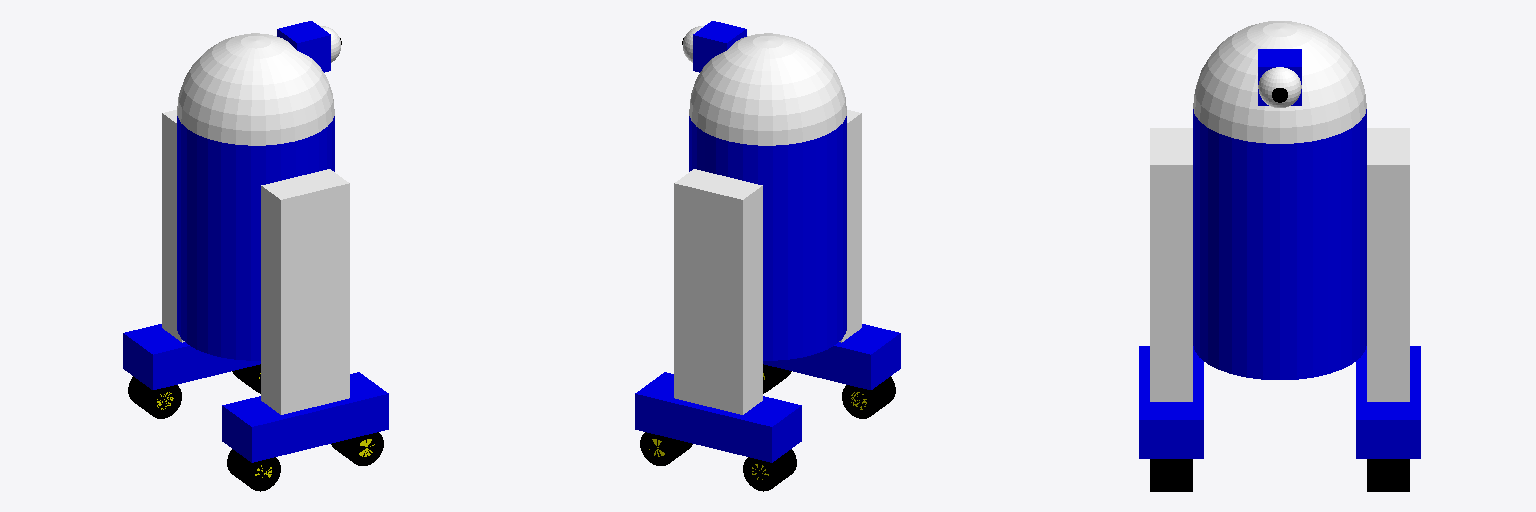
URDF robot description (chitti_vtwo):
<?xml version="1.0" ?>
<!-- =================================================================================== -->
<!-- |    This document was autogenerated by xacro from robot_vtwo.xacro               | -->
<!-- |    EDITING THIS FILE BY HAND IS NOT RECOMMENDED                                 | -->
<!-- =================================================================================== -->
<robot name="chitti_vtwo">
  <material name="blue">
    <color rgba="0 0 1 1"/>
  </material>
  <material name="white">
    <color rgba="1 1 1 1"/>
  </material>
  <material name="black">
    <color rgba="0 0 0 1"/>
  </material>
  <material name="black_2">
    <color rgba="0 0 0 0.9"/>
  </material>
  <material name="yellow">
    <color rgba="1 1 0 1"/>
  </material>
  <gazebo>
    <plugin filename="gz-sim-diff-drive-system" name="gz::sim::systems::DiffDrive">
      <left_joint>wheel1_joint</left_joint>
      <left_joint>wheel2_joint</left_joint>
      <right_joint>wheel3_joint</right_joint>
      <right_joint>wheel4_joint</right_joint>
      <wheel_separation>0.5</wheel_separation>
      <wheel_radius>0.05</wheel_radius>
      <topic>cmd_vel</topic>
    </plugin>
  </gazebo>
  <link name="base_link">
    <inertial>
      <mass value="5.0"/>
      <origin rpy="0 0 0" xyz="0 0 0"/>
      <inertia ixx="0.005" ixy="0" ixz="0" iyy="0.005" iyz="0" izz="0.005"/>
    </inertial>
    <visual>
      <geometry>
        <cylinder length="0.6" radius="0.2"/>
      </geometry>
      <material name="blue"/>
    </visual>
    <collision>
      <geometry>
        <cylinder length="0.6" radius="0.2"/>
      </geometry>
    </collision>
  </link>
  <link name="leg_l">
    <inertial>
      <mass value="0.5"/>
      <origin rpy="0 0 0" xyz="0 0 0"/>
      <inertia ixx="0.0005" ixy="0" ixz="0" iyy="0.0005" iyz="0" izz="0.0005"/>
    </inertial>
    <visual>
      <geometry>
        <box size="0.6 0.1 0.2"/>
      </geometry>
      <material name="white"/>
    </visual>
    <collision>
      <geometry>
        <box size="0.6 0.1 0.2"/>
      </geometry>
    </collision>
  </link>
  <joint name="leg_joint_l" type="revolute">
    <parent link="base_link"/>
    <child link="leg_l"/>
    <origin rpy="0 1.570796326795 0" xyz="0 -0.25 -0.1"/>
    <axis xyz="0 1 0"/>
    <limit effort="100.0" lower="-0.5" upper="0.5" velocity="3.14"/>
  </joint>
  <link name="pad_l">
    <inertial>
      <mass value="0.3"/>
      <origin rpy="0 0 0" xyz="0 0 0"/>
      <inertia ixx="0.0003" ixy="0" ixz="0" iyy="0.0003" iyz="0" izz="0.0003"/>
    </inertial>
    <visual>
      <geometry>
        <box size="0.4 0.15 0.1"/>
      </geometry>
      <material name="blue"/>
    </visual>
    <collision>
      <geometry>
        <box size="0.4 0.15 0.1"/>
      </geometry>
    </collision>
  </link>
  <joint name="pad_joint_l" type="fixed">
    <parent link="leg_l"/>
    <child link="pad_l"/>
    <origin rpy="0 -1.570796326795 0" xyz="0.35 0 0"/>
  </joint>
  <link name="leg_r">
    <inertial>
      <mass value="0.5"/>
      <origin rpy="0 0 0" xyz="0 0 0"/>
      <inertia ixx="0.0005" ixy="0" ixz="0" iyy="0.0005" iyz="0" izz="0.0005"/>
    </inertial>
    <visual>
      <geometry>
        <box size="0.6 0.1 0.2"/>
      </geometry>
      <material name="white"/>
    </visual>
    <collision>
      <geometry>
        <box size="0.6 0.1 0.2"/>
      </geometry>
    </collision>
  </link>
  <joint name="leg_joint_r" type="revolute">
    <parent link="base_link"/>
    <child link="leg_r"/>
    <origin rpy="0 1.570796326795 0" xyz="0 0.25 -0.1"/>
    <axis xyz="0 1 0"/>
    <limit effort="100.0" lower="-0.5" upper="0.5" velocity="3.14"/>
  </joint>
  <link name="pad_r">
    <inertial>
      <mass value="0.3"/>
      <origin rpy="0 0 0" xyz="0 0 0"/>
      <inertia ixx="0.0003" ixy="0" ixz="0" iyy="0.0003" iyz="0" izz="0.0003"/>
    </inertial>
    <visual>
      <geometry>
        <box size="0.4 0.15 0.1"/>
      </geometry>
      <material name="blue"/>
    </visual>
    <collision>
      <geometry>
        <box size="0.4 0.15 0.1"/>
      </geometry>
    </collision>
  </link>
  <joint name="pad_joint_r" type="fixed">
    <parent link="leg_r"/>
    <child link="pad_r"/>
    <origin rpy="0 -1.570796326795 0" xyz="0.35 0 0"/>
  </joint>
  <link name="wheel1">
    <inertial>
      <mass value="0.2"/>
      <origin rpy="0 0 0" xyz="0 0 0"/>
      <inertia ixx="0.0002" ixy="0" ixz="0" iyy="0.0002" iyz="0" izz="0.0002"/>
    </inertial>
    <visual>
      <geometry>
        <cylinder length="0.1" radius="0.05"/>
      </geometry>
      <material name="black_2"/>
    </visual>
    <collision>
      <geometry>
        <cylinder length="0.1" radius="0.05"/>
      </geometry>
    </collision>
  </link>
  <joint name="wheel1_joint" type="continuous">
    <parent link="pad_l"/>
    <child link="wheel1"/>
    <origin rpy="1.570796326795 0 0" xyz="0.15 0 -0.1"/>
    <axis xyz="0 0 1"/>
  </joint>
  <link name="iwheel1">
    <inertial>
      <mass value="0.05"/>
      <origin rpy="0 0 0" xyz="0 0 0"/>
      <inertia ixx="5e-05" ixy="0" ixz="0" iyy="5e-05" iyz="0" izz="5e-05"/>
    </inertial>
    <visual>
      <geometry>
        <cylinder length="0.1" radius="0.025"/>
      </geometry>
      <material name="yellow"/>
    </visual>
    <collision>
      <geometry>
        <cylinder length="0.1" radius="0.025"/>
      </geometry>
    </collision>
  </link>
  <joint name="iwheel1_joint" type="fixed">
    <parent link="wheel1"/>
    <child link="iwheel1"/>
    <origin rpy="0 0 0" xyz="0 0 0"/>
  </joint>
  <link name="wheel2">
    <inertial>
      <mass value="0.2"/>
      <origin rpy="0 0 0" xyz="0 0 0"/>
      <inertia ixx="0.0002" ixy="0" ixz="0" iyy="0.0002" iyz="0" izz="0.0002"/>
    </inertial>
    <visual>
      <geometry>
        <cylinder length="0.1" radius="0.05"/>
      </geometry>
      <material name="black_2"/>
    </visual>
    <collision>
      <geometry>
        <cylinder length="0.1" radius="0.05"/>
      </geometry>
    </collision>
  </link>
  <joint name="wheel2_joint" type="continuous">
    <parent link="pad_l"/>
    <child link="wheel2"/>
    <origin rpy="1.570796326795 0 0" xyz="-0.15 0 -0.1"/>
    <axis xyz="0 0 1"/>
  </joint>
  <link name="iwheel2">
    <inertial>
      <mass value="0.05"/>
      <origin rpy="0 0 0" xyz="0 0 0"/>
      <inertia ixx="5e-05" ixy="0" ixz="0" iyy="5e-05" iyz="0" izz="5e-05"/>
    </inertial>
    <visual>
      <geometry>
        <cylinder length="0.1" radius="0.025"/>
      </geometry>
      <material name="yellow"/>
    </visual>
    <collision>
      <geometry>
        <cylinder length="0.1" radius="0.025"/>
      </geometry>
    </collision>
  </link>
  <joint name="iwheel2_joint" type="fixed">
    <parent link="wheel2"/>
    <child link="iwheel2"/>
    <origin rpy="0 0 0" xyz="0 0 0"/>
  </joint>
  <link name="wheel3">
    <inertial>
      <mass value="0.2"/>
      <origin rpy="0 0 0" xyz="0 0 0"/>
      <inertia ixx="0.0002" ixy="0" ixz="0" iyy="0.0002" iyz="0" izz="0.0002"/>
    </inertial>
    <visual>
      <geometry>
        <cylinder length="0.1" radius="0.05"/>
      </geometry>
      <material name="black_2"/>
    </visual>
    <collision>
      <geometry>
        <cylinder length="0.1" radius="0.05"/>
      </geometry>
    </collision>
  </link>
  <joint name="wheel3_joint" type="continuous">
    <parent link="pad_r"/>
    <child link="wheel3"/>
    <origin rpy="1.570796326795 0 0" xyz="-0.15 0 -0.1"/>
    <axis xyz="0 0 1"/>
  </joint>
  <link name="iwheel3">
    <inertial>
      <mass value="0.05"/>
      <origin rpy="0 0 0" xyz="0 0 0"/>
      <inertia ixx="5e-05" ixy="0" ixz="0" iyy="5e-05" iyz="0" izz="5e-05"/>
    </inertial>
    <visual>
      <geometry>
        <cylinder length="0.1" radius="0.025"/>
      </geometry>
      <material name="yellow"/>
    </visual>
    <collision>
      <geometry>
        <cylinder length="0.1" radius="0.025"/>
      </geometry>
    </collision>
  </link>
  <joint name="iwheel3_joint" type="fixed">
    <parent link="wheel3"/>
    <child link="iwheel3"/>
    <origin rpy="0 0 0" xyz="0 0 0"/>
  </joint>
  <link name="wheel4">
    <inertial>
      <mass value="0.2"/>
      <origin rpy="0 0 0" xyz="0 0 0"/>
      <inertia ixx="0.0002" ixy="0" ixz="0" iyy="0.0002" iyz="0" izz="0.0002"/>
    </inertial>
    <visual>
      <geometry>
        <cylinder length="0.1" radius="0.05"/>
      </geometry>
      <material name="black_2"/>
    </visual>
    <collision>
      <geometry>
        <cylinder length="0.1" radius="0.05"/>
      </geometry>
    </collision>
  </link>
  <joint name="wheel4_joint" type="continuous">
    <parent link="pad_r"/>
    <child link="wheel4"/>
    <origin rpy="1.570796326795 0 0" xyz="0.15 0 -0.1"/>
    <axis xyz="0 0 1"/>
  </joint>
  <link name="iwheel4">
    <inertial>
      <mass value="0.05"/>
      <origin rpy="0 0 0" xyz="0 0 0"/>
      <inertia ixx="5e-05" ixy="0" ixz="0" iyy="5e-05" iyz="0" izz="5e-05"/>
    </inertial>
    <visual>
      <geometry>
        <cylinder length="0.1" radius="0.025"/>
      </geometry>
      <material name="yellow"/>
    </visual>
    <collision>
      <geometry>
        <cylinder length="0.1" radius="0.025"/>
      </geometry>
    </collision>
  </link>
  <joint name="iwheel4_joint" type="fixed">
    <parent link="wheel4"/>
    <child link="iwheel4"/>
    <origin rpy="0 0 0" xyz="0 0 0"/>
  </joint>
  <link name="head">
    <inertial>
      <mass value="1.0"/>
      <origin rpy="0 0 0" xyz="0 0 0"/>
      <inertia ixx="0.001" ixy="0" ixz="0" iyy="0.001" iyz="0" izz="0.001"/>
    </inertial>
    <visual>
      <geometry>
        <sphere radius="0.2"/>
      </geometry>
      <material name="white"/>
    </visual>
    <collision>
      <geometry>
        <sphere radius="0.2"/>
      </geometry>
    </collision>
  </link>
  <joint name="head_joint1" type="continuous">
    <parent link="base_link"/>
    <child link="head"/>
    <origin rpy="0 0 0" xyz="0 0 0.3"/>
    <axis xyz="0 0 1"/>
  </joint>
  <link name="eye_socket">
    <inertial>
      <mass value="0.1"/>
      <origin rpy="0 0 0" xyz="0 0 0"/>
      <inertia ixx="0.0001" ixy="0" ixz="0" iyy="0.0001" iyz="0" izz="0.0001"/>
    </inertial>
    <visual>
      <geometry>
        <box size="0.1 0.1 0.1"/>
      </geometry>
      <material name="blue"/>
    </visual>
    <collision>
      <geometry>
        <box size="0.1 0.1 0.1"/>
      </geometry>
    </collision>
  </link>
  <joint name="eye_joint" type="fixed">
    <parent link="head"/>
    <child link="eye_socket"/>
    <origin rpy="0 0 0" xyz="0.1414 0 0.1414"/>
  </joint>
  <link name="eyeball">
    <inertial>
      <mass value="0.05"/>
      <origin rpy="0 0 0" xyz="0 0 0"/>
      <inertia ixx="5e-05" ixy="0" ixz="0" iyy="5e-05" iyz="0" izz="5e-05"/>
    </inertial>
    <visual>
      <geometry>
        <sphere radius="0.05"/>
      </geometry>
      <material name="white"/>
    </visual>
    <collision>
      <geometry>
        <sphere radius="0.05"/>
      </geometry>
    </collision>
  </link>
  <joint name="ieye_joint" type="revolute">
    <parent link="eye_socket"/>
    <child link="eyeball"/>
    <origin rpy="0 0 0" xyz="0.05 0 0"/>
    <axis xyz="0 1 0"/>
    <limit effort="100.0" lower="-1.570796326795" upper="1.570796326795" velocity="3.14"/>
  </joint>
  <link name="pupil">
    <inertial>
      <mass value="0.01"/>
      <origin rpy="0 0 0" xyz="0 0 0"/>
      <inertia ixx="1e-05" ixy="0" ixz="0" iyy="1e-05" iyz="0" izz="1e-05"/>
    </inertial>
    <visual>
      <geometry>
        <sphere radius="0.025"/>
      </geometry>
      <material name="black"/>
    </visual>
    <collision>
      <geometry>
        <sphere radius="0.025"/>
      </geometry>
    </collision>
  </link>
  <joint name="pupil_joint" type="fixed">
    <parent link="eyeball"/>
    <child link="pupil"/>
    <origin rpy="0 0 0" xyz="0.03 0 0"/>
  </joint>
</robot>

--- Facts derived from the render (not from the file) ---
3 views of the same robot in one strip: view 1: azimuth 30°, elevation 25°; view 2: azimuth 150°, elevation 25°; view 3: azimuth 270°, elevation 25° (orthographic).
Robot: chitti_vtwo — 17 links, 16 joints (3 revolute, 5 continuous, 8 fixed); root link base_link; default pose: all joints at 0.
Visible links, largest first — view 1: base_link, leg_l, head, pad_l, pad_r, leg_r, eye_socket, wheel2, wheel3, wheel1; view 2: base_link, leg_r, head, pad_r, pad_l, leg_l, eye_socket, wheel3, wheel2, wheel4; view 3: base_link, head, leg_l, leg_r, pad_l, pad_r, wheel1, wheel4, eyeball, eye_socket.
Link boxes in pixels (box(x1,y1,x2,y2)): base_link: box(177, 116, 334, 360); leg_l: box(261, 169, 349, 414); head: box(177, 33, 334, 145); pad_l: box(222, 372, 388, 462); pad_r: box(123, 324, 260, 389); leg_r: box(162, 110, 184, 342); eye_socket: box(277, 21, 330, 72); wheel2: box(227, 449, 280, 491); wheel3: box(128, 376, 181, 418); wheel1: box(331, 432, 383, 465); base_link: box(689, 116, 846, 360); leg_r: box(674, 169, 762, 414); head: box(689, 33, 846, 145); pad_r: box(635, 372, 801, 462); pad_l: box(763, 324, 900, 389); leg_l: box(839, 110, 861, 342); eye_socket: box(693, 21, 746, 72); wheel3: box(743, 449, 796, 491); wheel2: box(842, 376, 895, 418); wheel4: box(640, 432, 692, 465); base_link: box(1193, 109, 1366, 379); head: box(1193, 21, 1366, 143); leg_l: box(1150, 128, 1192, 401); leg_r: box(1367, 128, 1409, 401); pad_l: box(1139, 346, 1203, 458); pad_r: box(1356, 346, 1420, 458); wheel1: box(1150, 459, 1192, 491); wheel4: box(1367, 459, 1409, 491); eyeball: box(1258, 67, 1301, 107); eye_socket: box(1258, 49, 1301, 105).
Bounding box of the posed robot: 0.4464 × 0.65 × 1.1 m (x, y, z).
Geometry: primitives only (box / cylinder / sphere), no mesh files.
